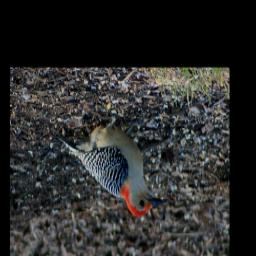Woodpecker: (60, 107, 166, 216)
